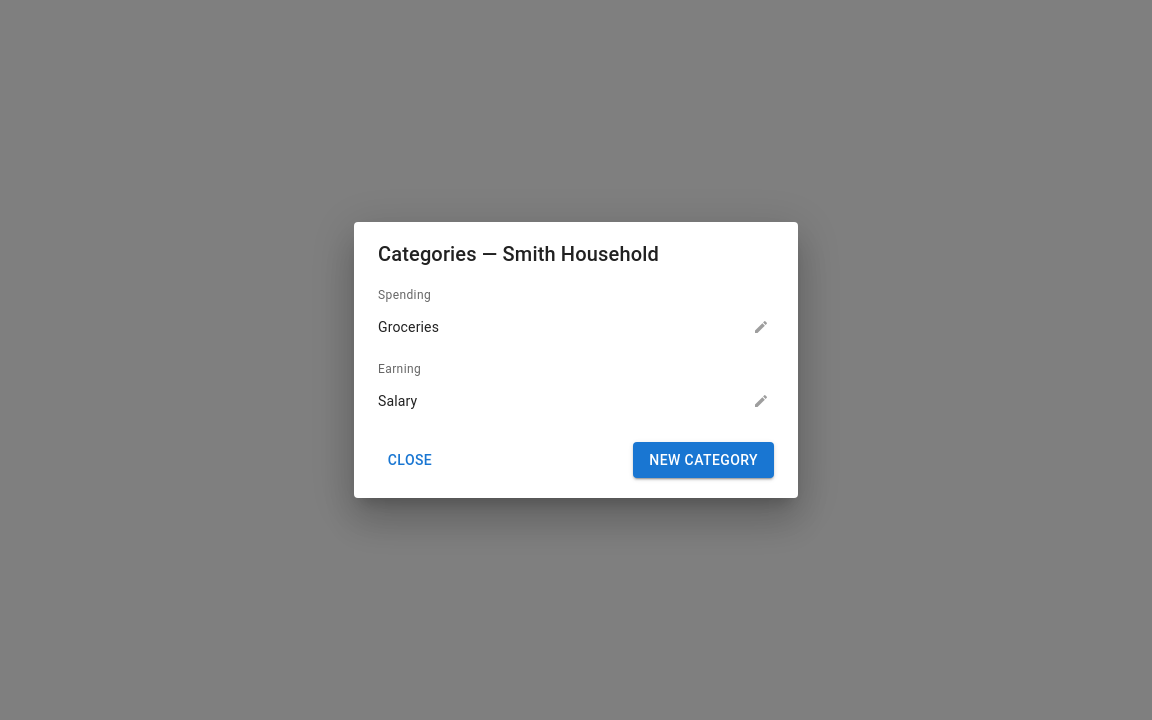
Test: CategoryManagementDialog title › shows "New category" title after clicking New category
Expected: the text "Groceries" is shown, [378,317,439,337]
Click the button "New category" at point(704, 460), box [633,442,774,478]
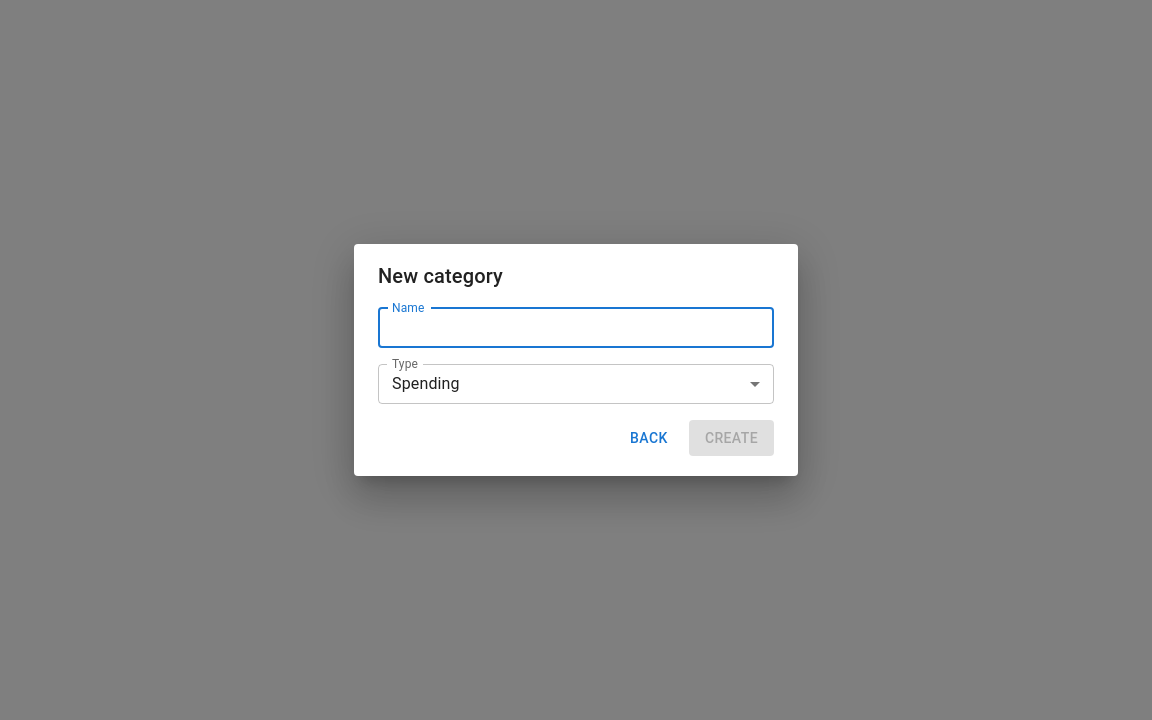
Now the heading "New category" is shown, box [378,264,503,288]
